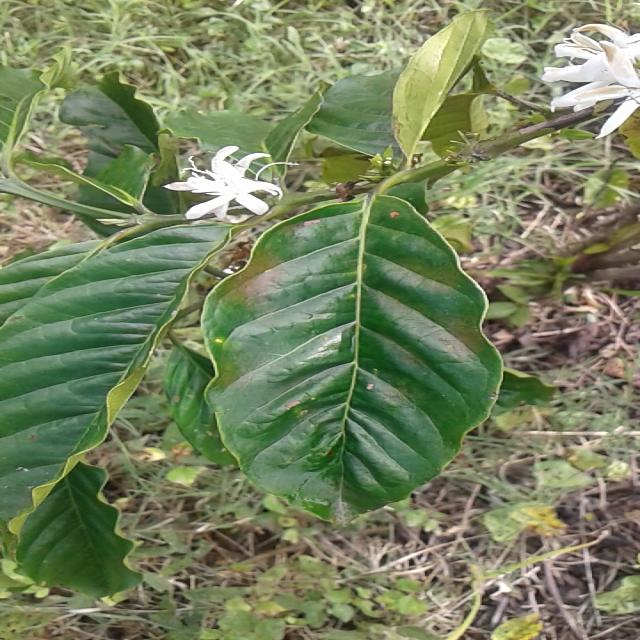Enfermedad-Roya: (201, 196, 505, 528)
